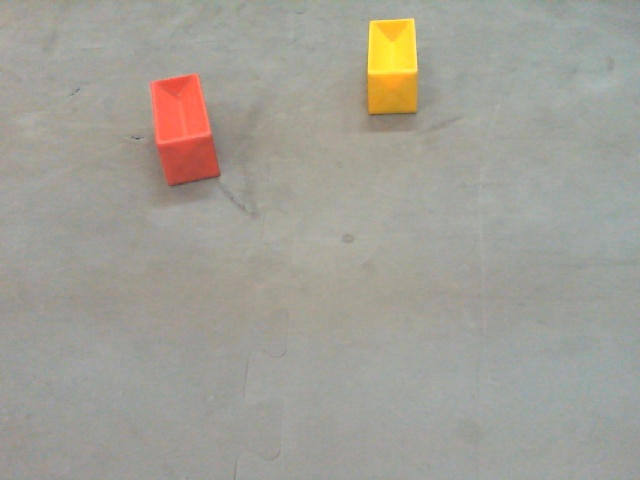RedSample: (150, 71, 227, 185)
YellowSample: (365, 15, 419, 116)
